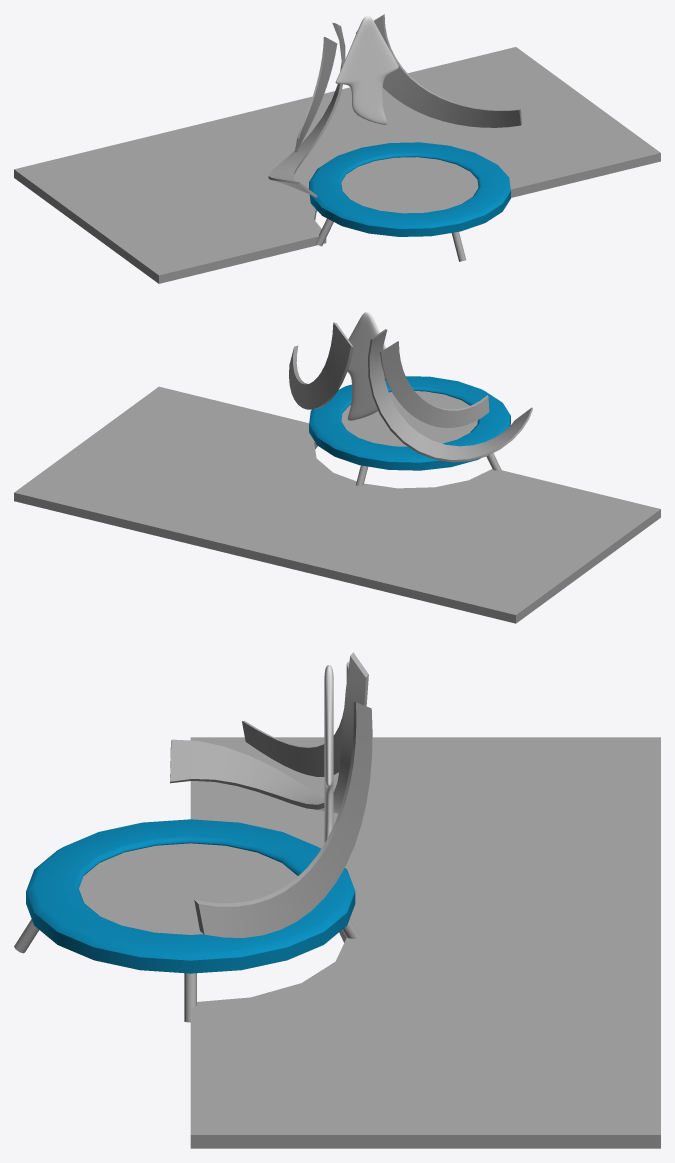
Rendered from requested_DLC.fbx.
The picture shows the model from 3 angles, top to bottom: view 1: azimuth 30°, elevation 25°; view 2: azimuth 150°, elevation 25°; view 3: azimuth 270°, elevation 25°; orthographic projection. The views are drawn at different scales.
Parts seen in each view (by area): view 1: pCube357, trampolean, pCube356; view 2: pCube357, pCube356, trampolean; view 3: pCube356, pCube357, trampolean.
Part boxes in pixels (left/top/right/bottom): pCube357: left=14, top=108, right=333, bottom=283; trampolean: left=268, top=14, right=521, bottom=261; pCube356: left=265, top=47, right=660, bottom=197; pCube357: left=265, top=469, right=660, bottom=623; pCube356: left=14, top=386, right=357, bottom=562; trampolean: left=289, top=312, right=532, bottom=486; pCube356: left=190, top=936, right=660, bottom=1148; pCube357: left=190, top=737, right=660, bottom=942; trampolean: left=14, top=652, right=372, bottom=1022.
Size of the model in its own units: 10.33 by 3.47 by 7.11.
